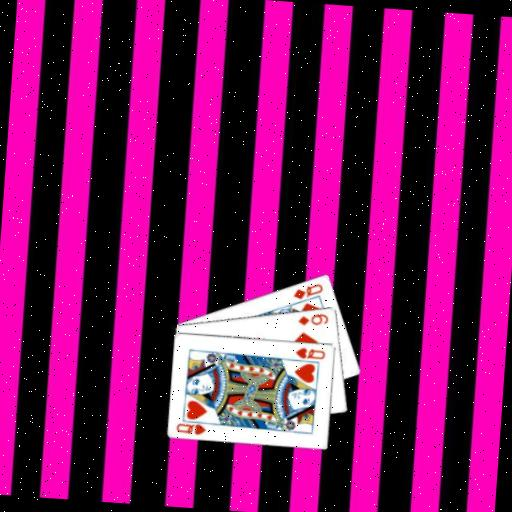6D: (296, 309, 331, 328)
QD: (290, 278, 325, 302)
QH: (173, 416, 212, 437), (293, 344, 328, 362)
